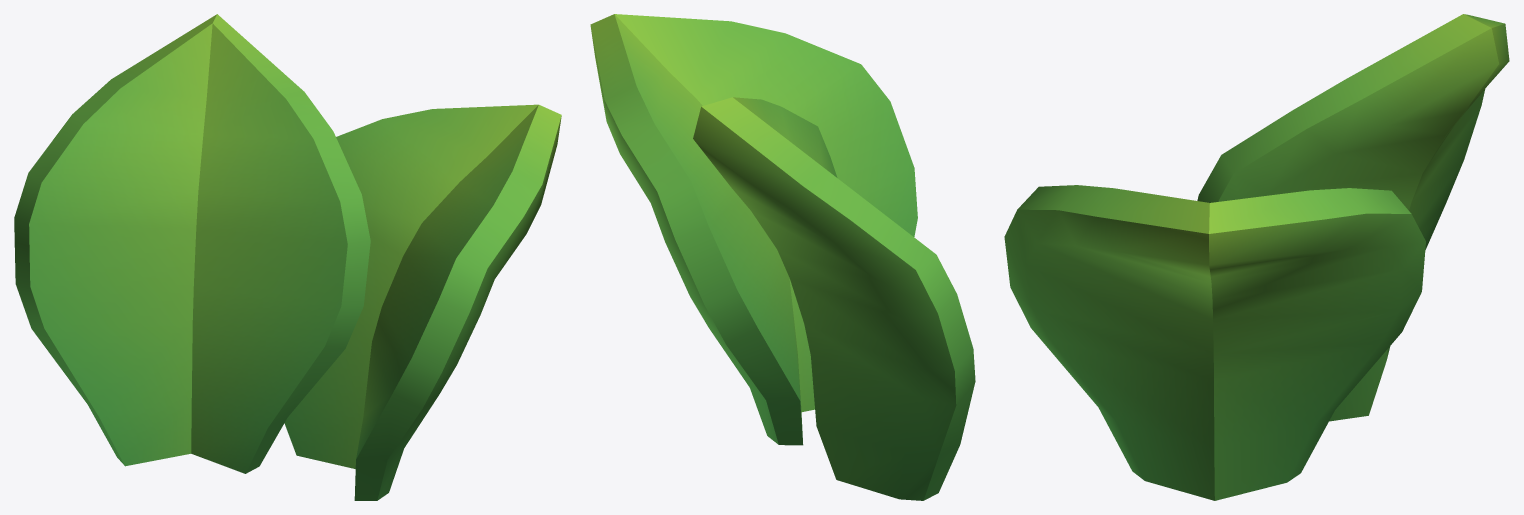
The model's file is foliage_A.gltf.
The picture shows the model from 3 angles, left to right: view 1: azimuth 30°, elevation 25°; view 2: azimuth 150°, elevation 25°; view 3: azimuth 270°, elevation 25°; orthographic projection. The views are drawn at different scales.
Visible parts, largest first — view 1: foliage_A; view 2: foliage_A; view 3: foliage_A.
Part boxes in pixels (left/top/right/bottom): foliage_A: left=14, top=14, right=561, bottom=500; foliage_A: left=590, top=14, right=975, bottom=500; foliage_A: left=1004, top=14, right=1509, bottom=500.
Bounding box in the file's own units: 0.5275 × 0.4319 × 0.445.
Materials: 1 (1 with a texture image).
